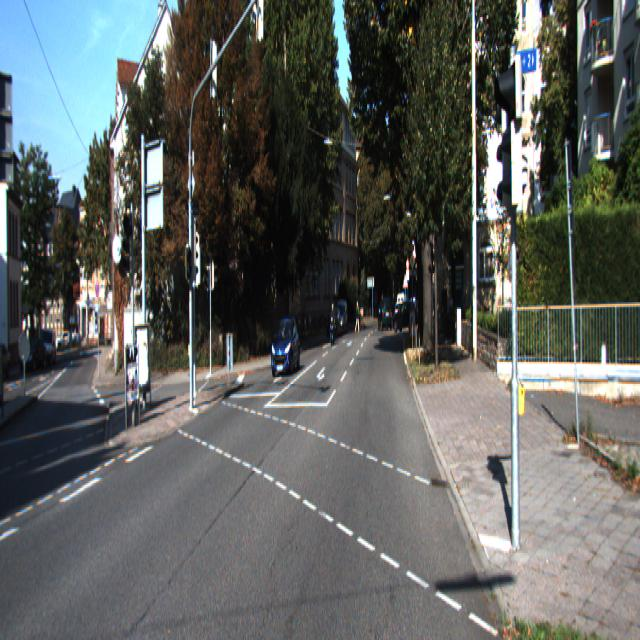Car: (270, 314, 301, 379), (329, 301, 337, 344)
